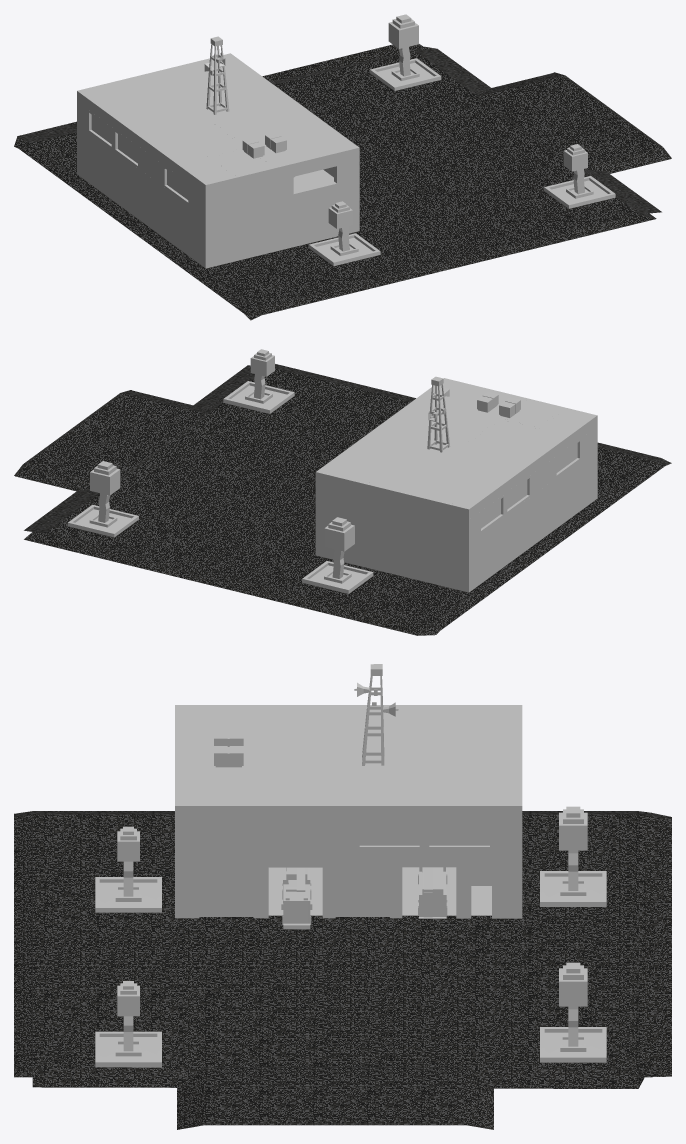
The model's file is -BCW FIRE STATION FULL-.fbx.
3 views of the same model, one above another, from view 1: azimuth 30°, elevation 25°; view 2: azimuth 150°, elevation 25°; view 3: azimuth 270°, elevation 25° (orthographic). The views are drawn at different scales.
Parts seen in each view (by area): view 1: FIRE_STATION_PARKING_LOT, exterior, BLOCKYGON_STREET_TREE__1_, BLOCKYGON_STREET_TREE__1__1_, BLOCKYGON_STREET_TREE__1, BGN_ROOF_RADIO, interior; view 2: FIRE_STATION_PARKING_LOT, exterior, BLOCKYGON_STREET_TREE, BLOCKYGON_STREET_TREE__1_, BLOCKYGON_STREET_TREE__1__1_, BGN_ROOF_RADIO; view 3: FIRE_STATION_PARKING_LOT, exterior, BLOCKYGON_STREET_TREE, BLOCKYGON_STREET_TREE__1_, BLOCKYGON_STREET_TREE__1__1_, BLOCKYGON_STREET_TREE__1, BGN_FIRE_TRUCK, BGN_ROOF_RADIO, BGN_FIRE_TRUCK__1_, WINDOWS, WINDOWS_1.
Part boxes in pixels (box(x1,y1,x2,y2)): FIRE_STATION_PARKING_LOT: box(14, 44, 671, 320); exterior: box(77, 53, 359, 268); BLOCKYGON_STREET_TREE__1_: box(370, 14, 441, 90); BLOCKYGON_STREET_TREE__1__1_: box(544, 144, 615, 208); BLOCKYGON_STREET_TREE__1: box(309, 201, 380, 265); BGN_ROOF_RADIO: box(204, 36, 229, 114); interior: box(293, 169, 333, 191); FIRE_STATION_PARKING_LOT: box(14, 364, 671, 635); exterior: box(315, 378, 597, 592); BLOCKYGON_STREET_TREE: box(302, 517, 373, 593); BLOCKYGON_STREET_TREE__1_: box(67, 461, 138, 537); BLOCKYGON_STREET_TREE__1__1_: box(223, 349, 294, 413); BGN_ROOF_RADIO: box(427, 376, 450, 452); FIRE_STATION_PARKING_LOT: box(14, 811, 671, 1129); exterior: box(175, 705, 522, 918); BLOCKYGON_STREET_TREE: box(540, 806, 606, 906); BLOCKYGON_STREET_TREE__1_: box(540, 962, 606, 1062); BLOCKYGON_STREET_TREE__1__1_: box(95, 981, 161, 1067); BLOCKYGON_STREET_TREE__1: box(95, 826, 161, 912); BGN_FIRE_TRUCK: box(281, 867, 312, 929); BGN_ROOF_RADIO: box(354, 664, 398, 765); BGN_FIRE_TRUCK__1_: box(419, 867, 446, 918); WINDOWS: box(359, 823, 419, 845); WINDOWS_1: box(429, 823, 489, 845).
Size of the model in its own units: 5576 by 1759 by 4887.
